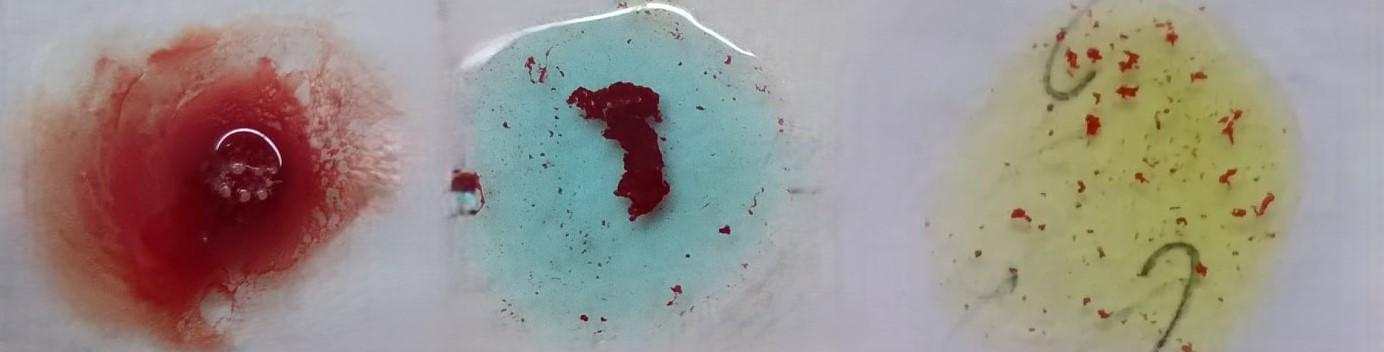A: (469, 15, 772, 344)
B: (1000, 9, 1285, 352)
D: (109, 36, 368, 346)
